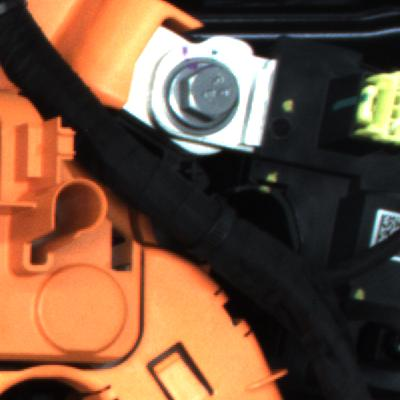nut_b: (150, 48, 249, 139)
